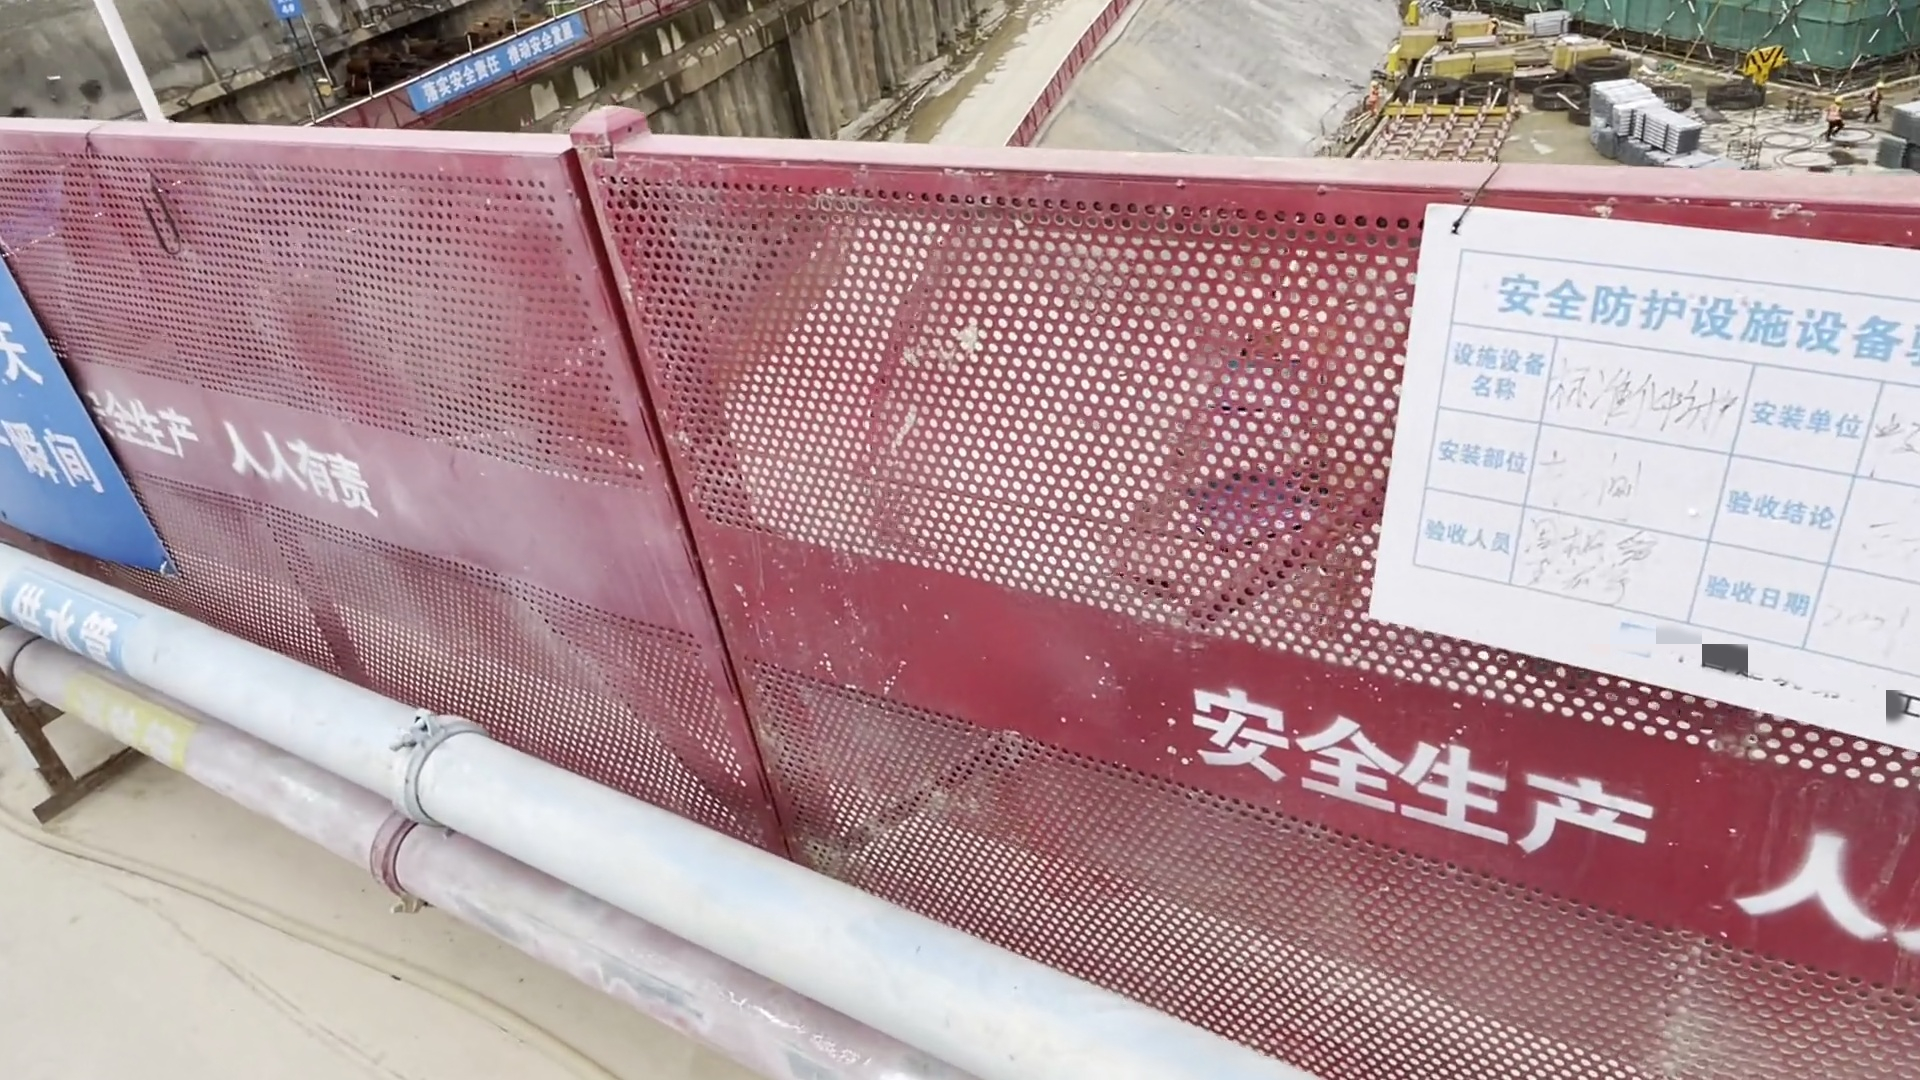fence: (80, 78, 1370, 965)
slogan: (1381, 183, 1920, 758), (1, 229, 177, 579), (404, 12, 597, 112)
